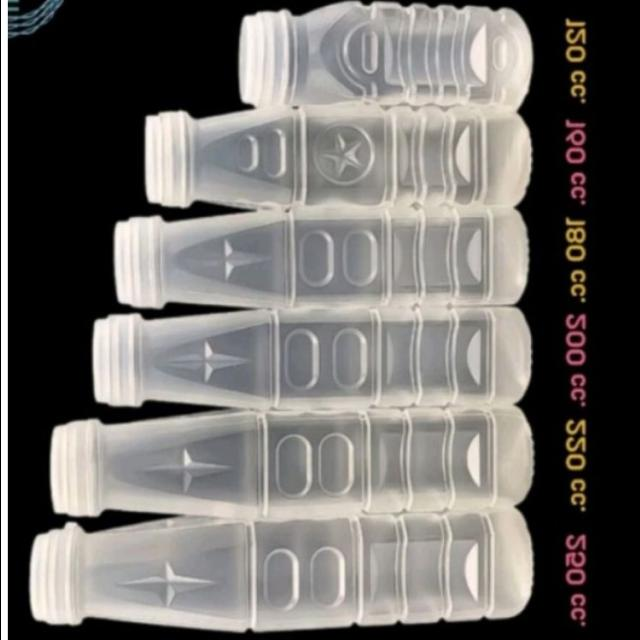plastik: (29, 510, 532, 631), (50, 406, 532, 519), (92, 307, 530, 409), (114, 208, 527, 308), (144, 105, 530, 207), (239, 2, 531, 109)
